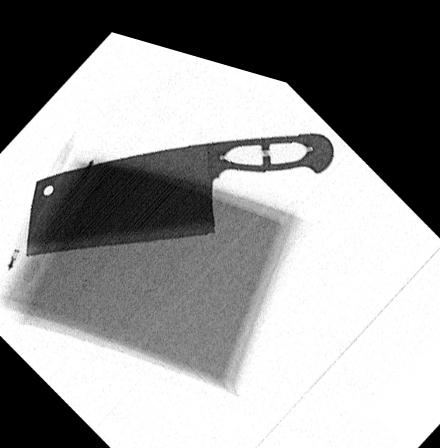Knife: (24, 113, 333, 255)
